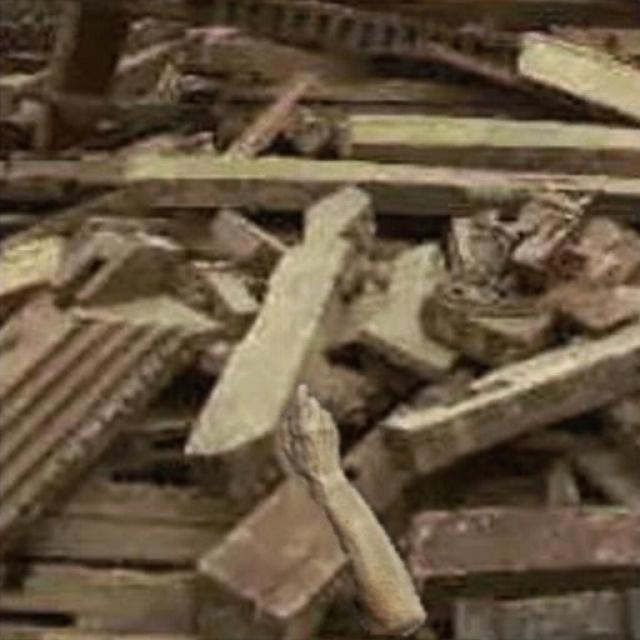Person in Rubble: (278, 385, 427, 634)
